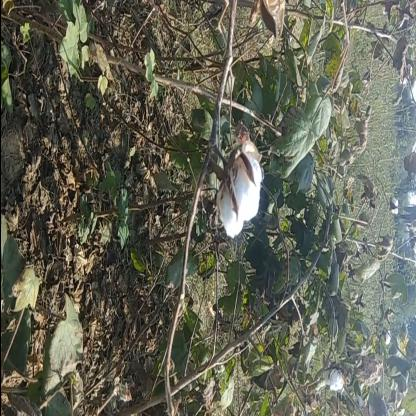cotton_ready: (206, 116, 275, 266)
